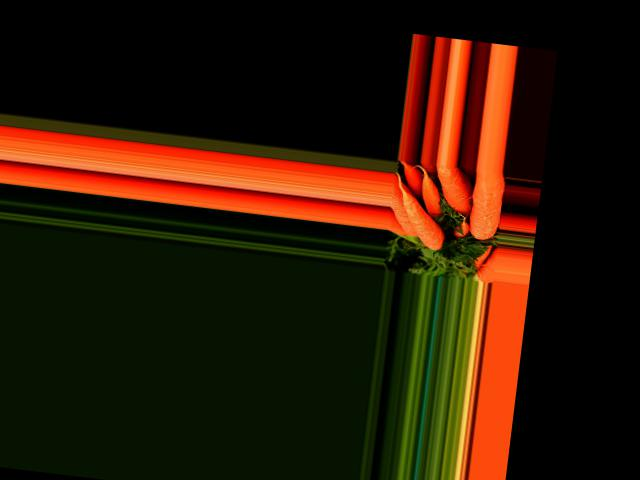carrot: (463, 169, 505, 244)
